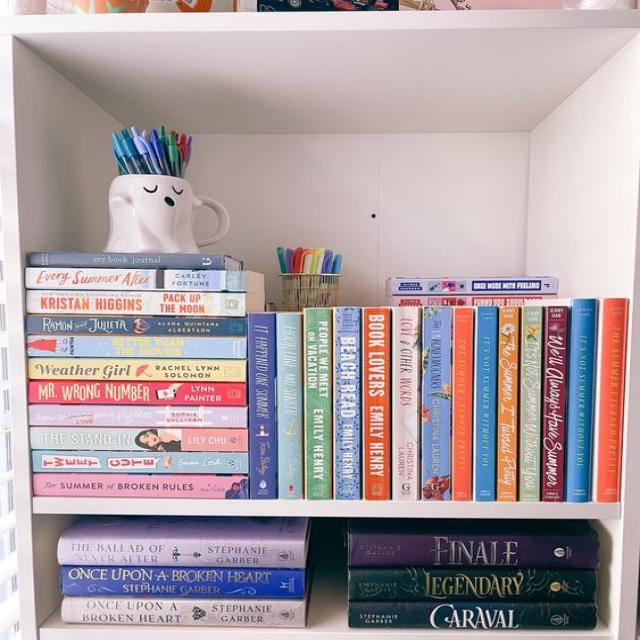book: (348, 534, 598, 566), (348, 569, 596, 600), (57, 539, 306, 568), (593, 298, 628, 503), (62, 568, 305, 597), (63, 599, 305, 627), (564, 299, 597, 503), (348, 603, 590, 630), (422, 307, 451, 500), (26, 290, 246, 315), (304, 308, 332, 500), (248, 314, 277, 499), (363, 308, 390, 500), (276, 314, 304, 499), (34, 474, 248, 498), (27, 382, 246, 405), (393, 307, 419, 500), (28, 359, 245, 382), (25, 270, 248, 292), (542, 307, 567, 502), (335, 307, 360, 500), (29, 407, 247, 428), (29, 429, 246, 450), (33, 452, 247, 473), (27, 337, 244, 357), (27, 316, 247, 335), (474, 306, 494, 501), (520, 308, 540, 500), (498, 308, 517, 500), (454, 308, 471, 500), (30, 254, 224, 268), (394, 279, 558, 294)
